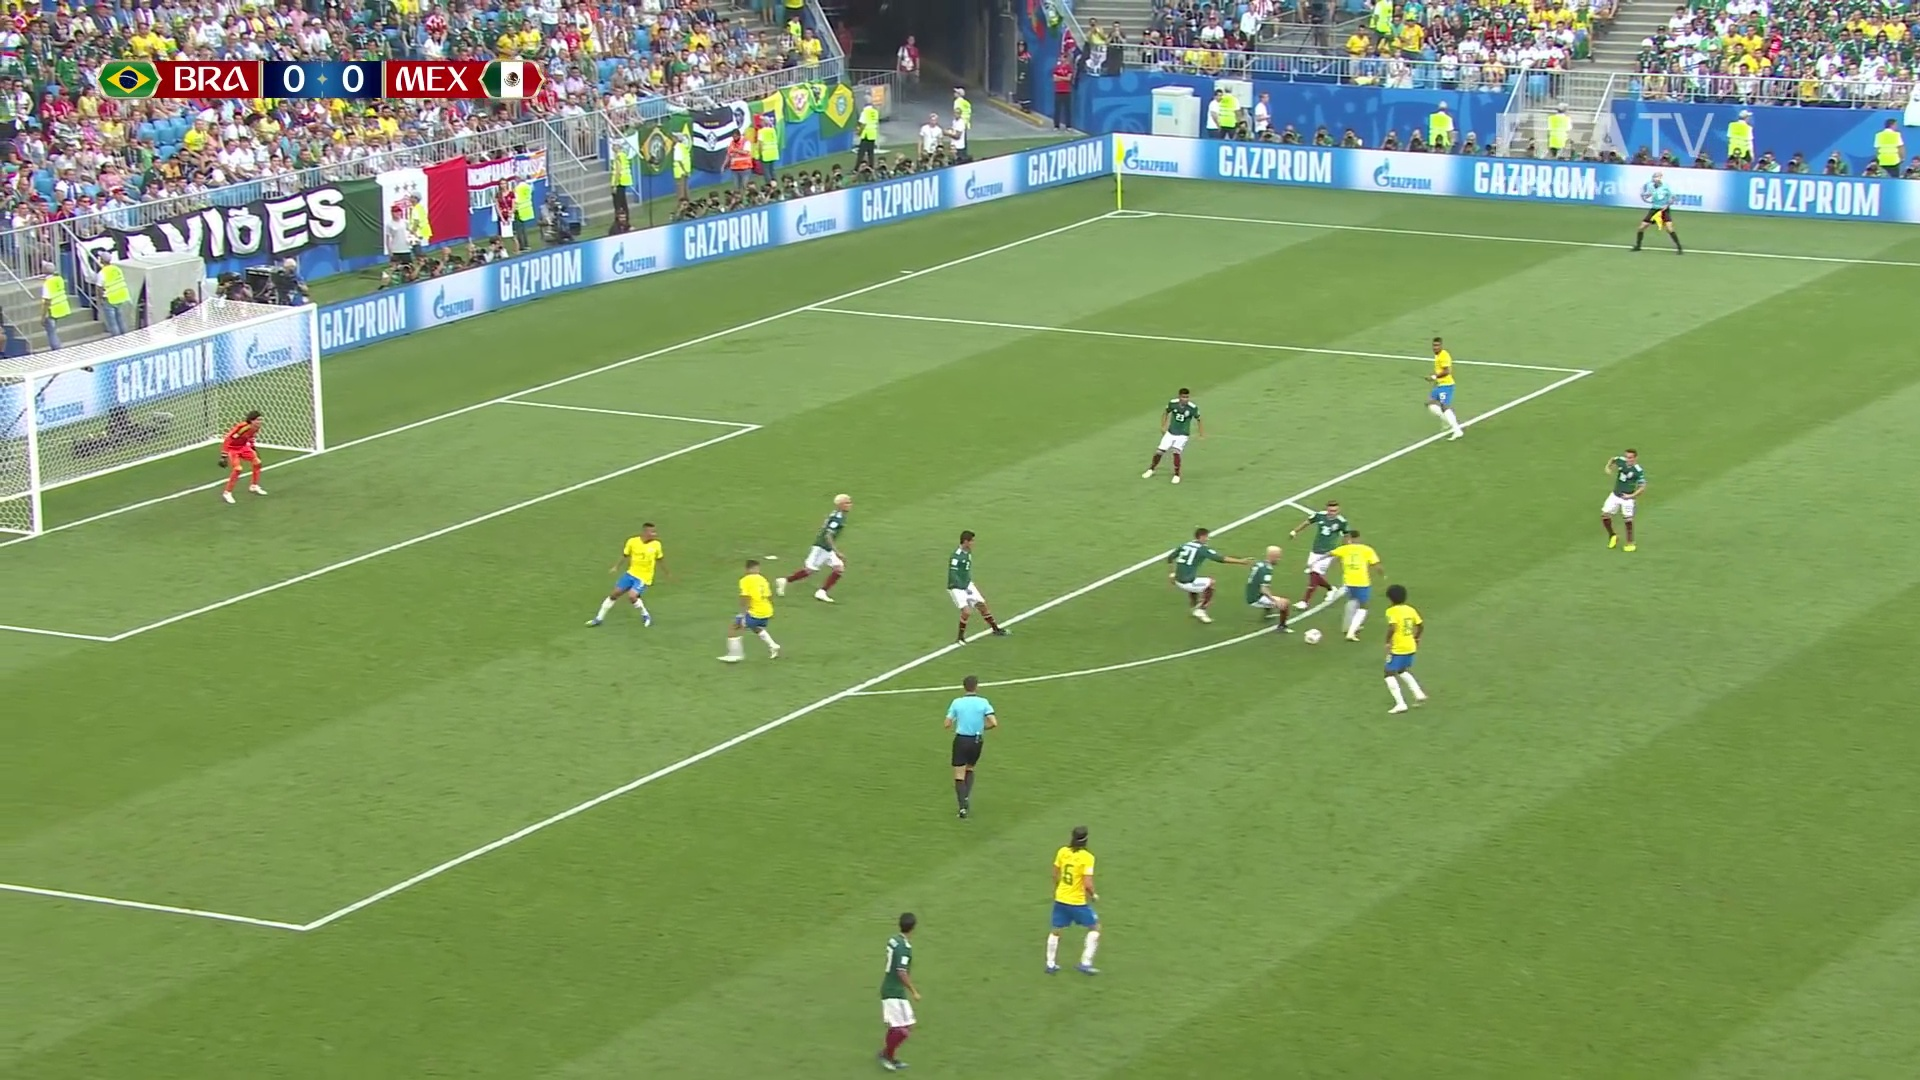ball: (1303, 629, 1321, 643)
person: (777, 494, 851, 604), (1168, 528, 1249, 622), (1048, 826, 1100, 972), (592, 523, 661, 627), (948, 530, 1009, 643), (879, 914, 919, 1072), (721, 560, 779, 663), (1328, 529, 1380, 643), (1143, 390, 1206, 483), (1381, 587, 1424, 711), (1290, 501, 1338, 608), (216, 412, 266, 501), (1603, 449, 1640, 553), (1429, 339, 1462, 440)
